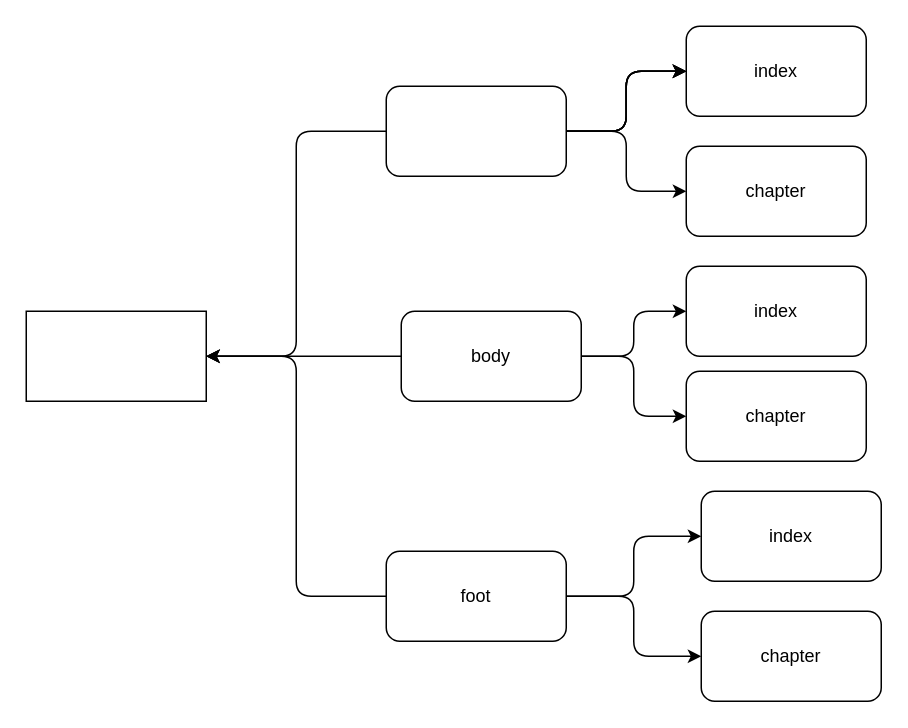
Image size: 908x728. Some labels were removed from this diagram. The centre of each missing label's shape, as x and y in pixels:
"head" belongs at (475,130).
"struct" belongs at (115,355).
